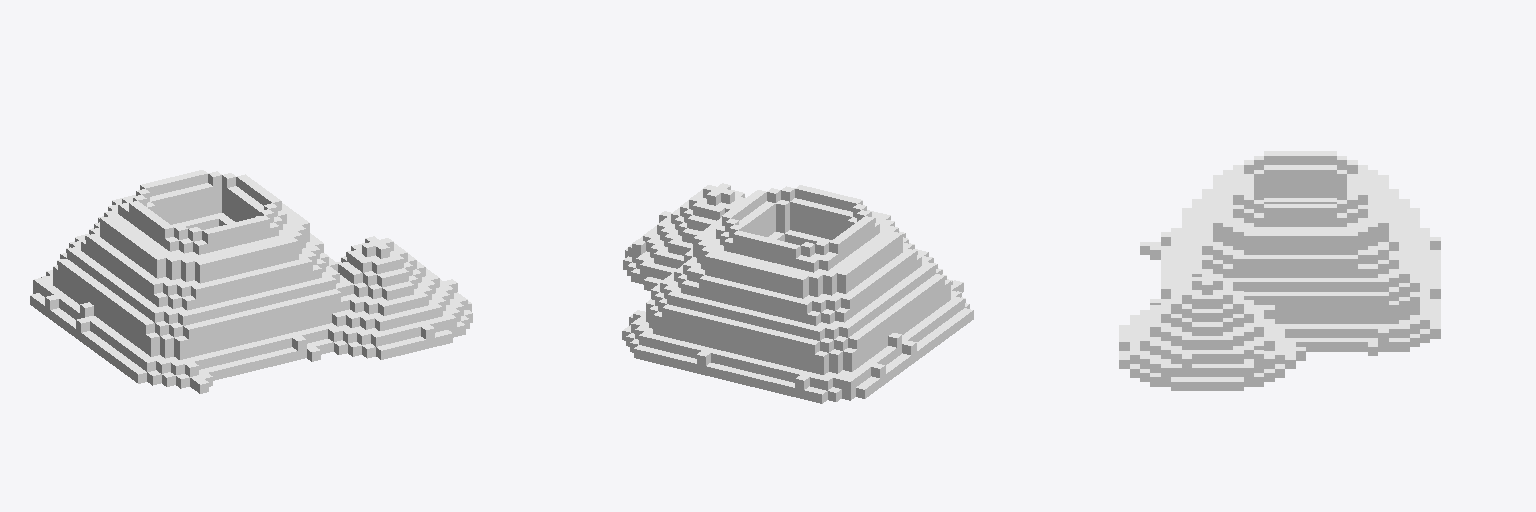
Rendered from cubeland1-18.obj.
3 views of the same model, side by side, from view 1: azimuth 30°, elevation 25°; view 2: azimuth 150°, elevation 25°; view 3: azimuth 270°, elevation 25° (orthographic).
Visible parts, largest first — view 1: object 1; view 2: object 1; view 3: object 1.
Part boxes in pixels (x1,y1,x2,y2): object 1: (30,170,472,393); object 1: (622,183,973,403); object 1: (1119,151,1440,390).
Size of the model in its own units: 3.6 by 1.2 by 3.1.